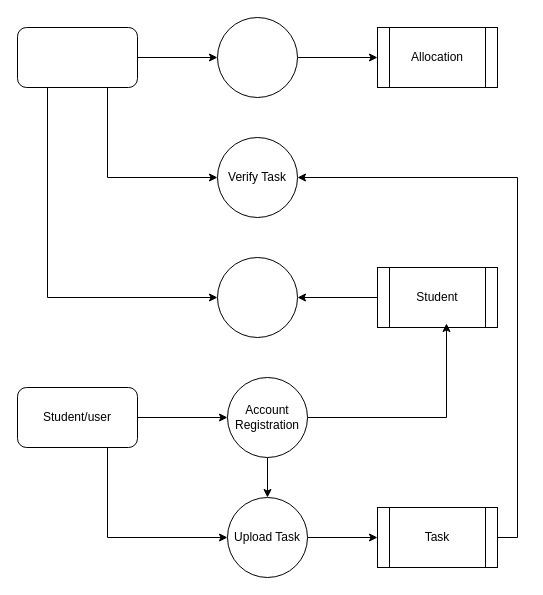
The diagram is 543 pixels wide and 595 high, and some of its shapes have lost their labels. The centre of each missing label's shape, as x and y in pixels:
"Admin" belongs at point (77, 57).
"Project Allocation" belongs at point (257, 57).
"Student/User Details" belongs at point (257, 297).
